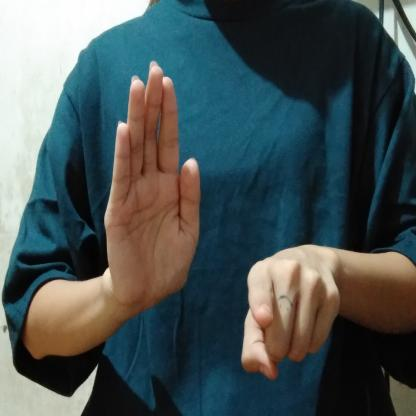stop: (104, 57, 354, 387)
